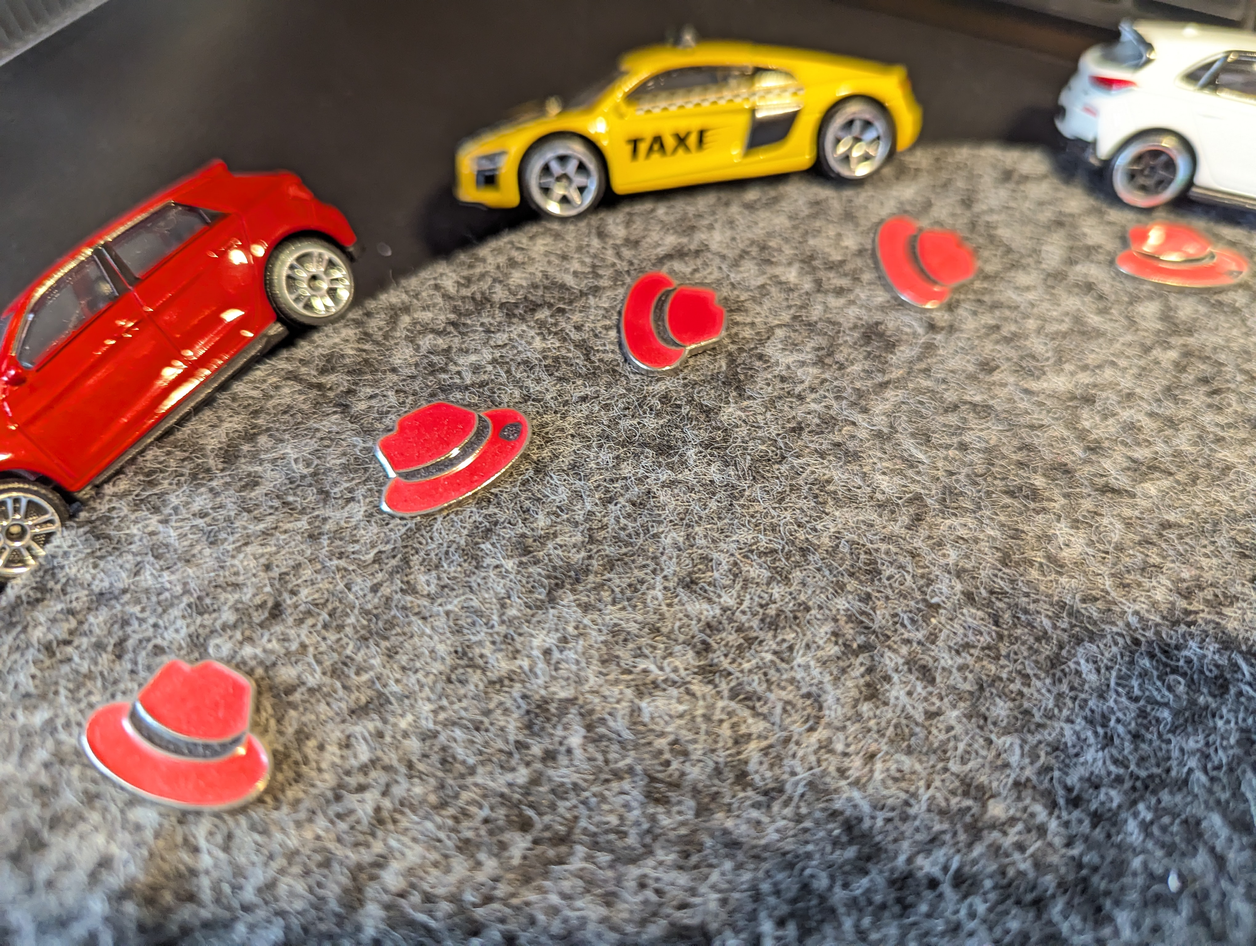Car: (0, 113, 386, 629), (419, 23, 959, 240), (1034, 3, 1256, 238)
Red-Hat: (62, 637, 300, 842), (350, 391, 545, 528), (606, 252, 750, 384), (858, 199, 994, 335), (1096, 208, 1256, 323)
Scratch: (490, 414, 531, 450), (1217, 256, 1253, 290)
